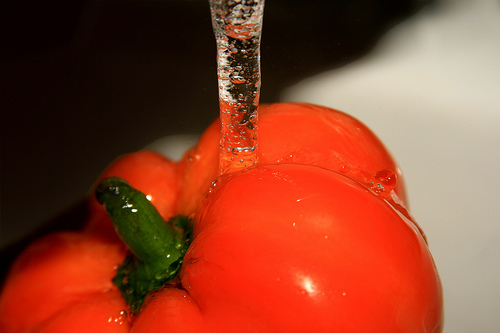capsicum: (0, 102, 443, 332)
